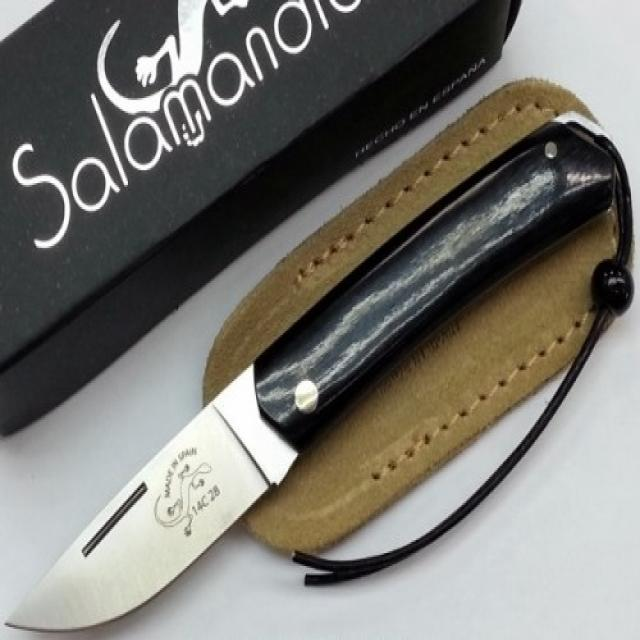knife: (1, 109, 640, 640)
